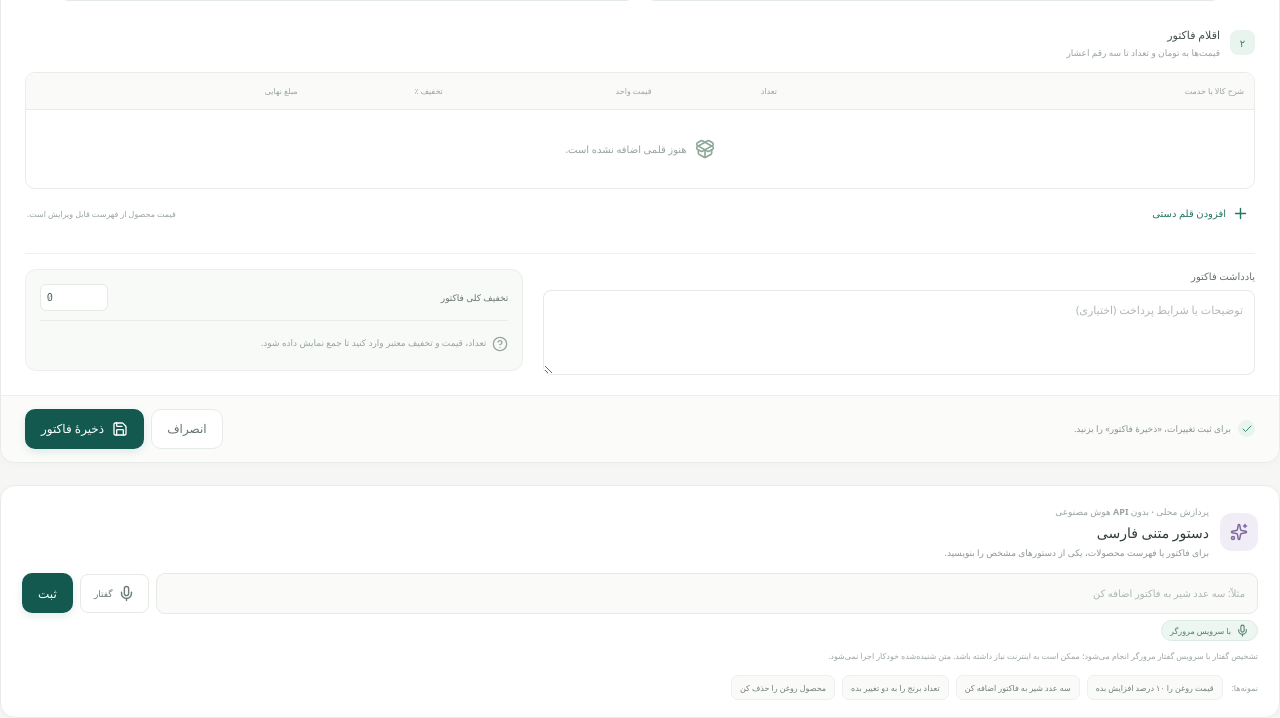
Test: ورود گفتاری در فرم فاکتور › از کلیک مستقیم شروع می‌کند و نتیجهٔ فارسی را فقط در ورودی دستور می‌گذارد
The image size is (1280, 718).
(page scrolled)
Click the button with aria-label "گفتن دستور با میکروفن" at coordinates (114, 593), box [80,574,149,613]
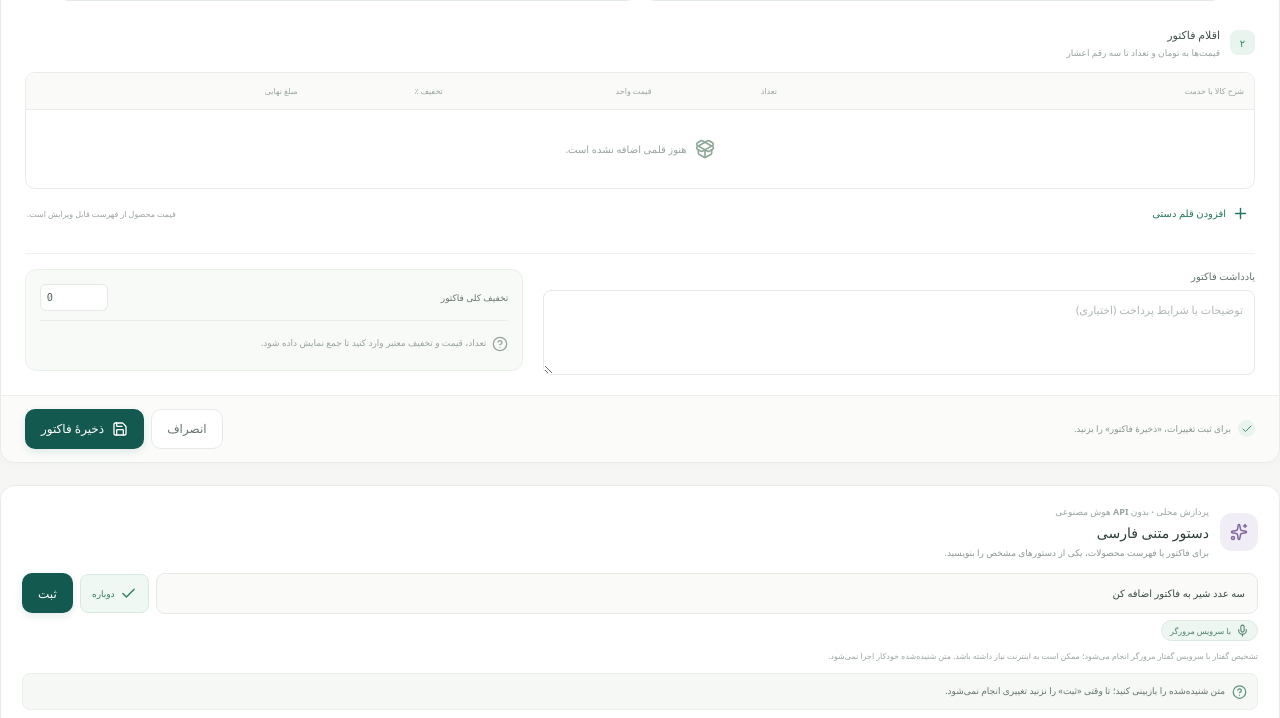
Check: the field named "نوشتن دستور فارسی" holds "سه عدد شیر به فاکتور اضافه کن", box [156,573,1258,614]
Check: the text "تا وقتی «ثبت» را نزنید تغییری انجام نمی‌شود" is shown, box [945,684,1225,697]
